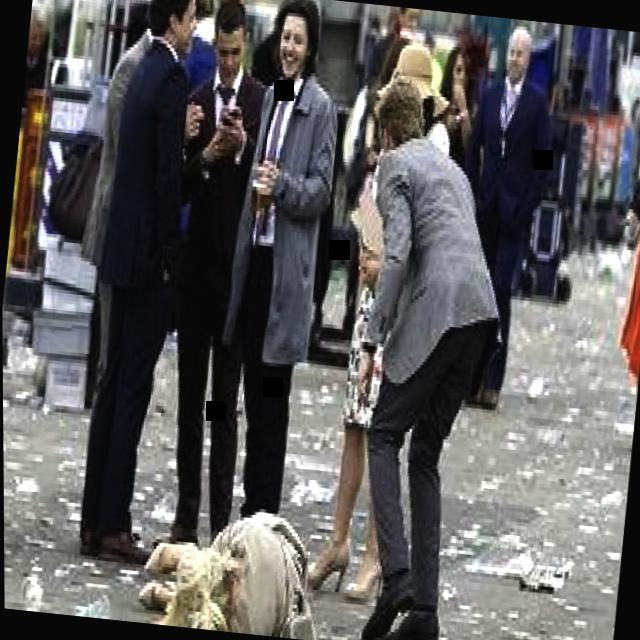Fall-Detected: (110, 470, 332, 640)
